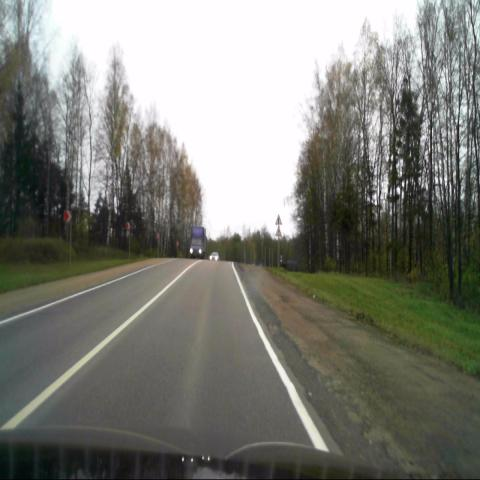2_3_3: (275, 213, 282, 225)
